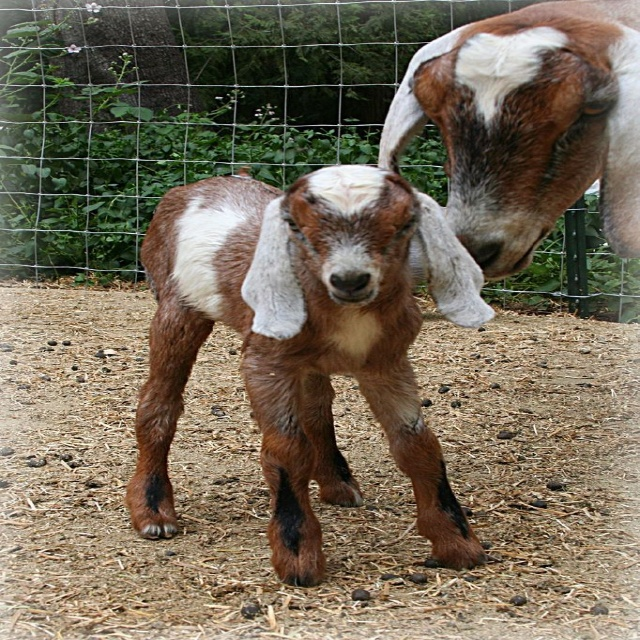Goat: (123, 164, 502, 589), (369, 0, 639, 276)
